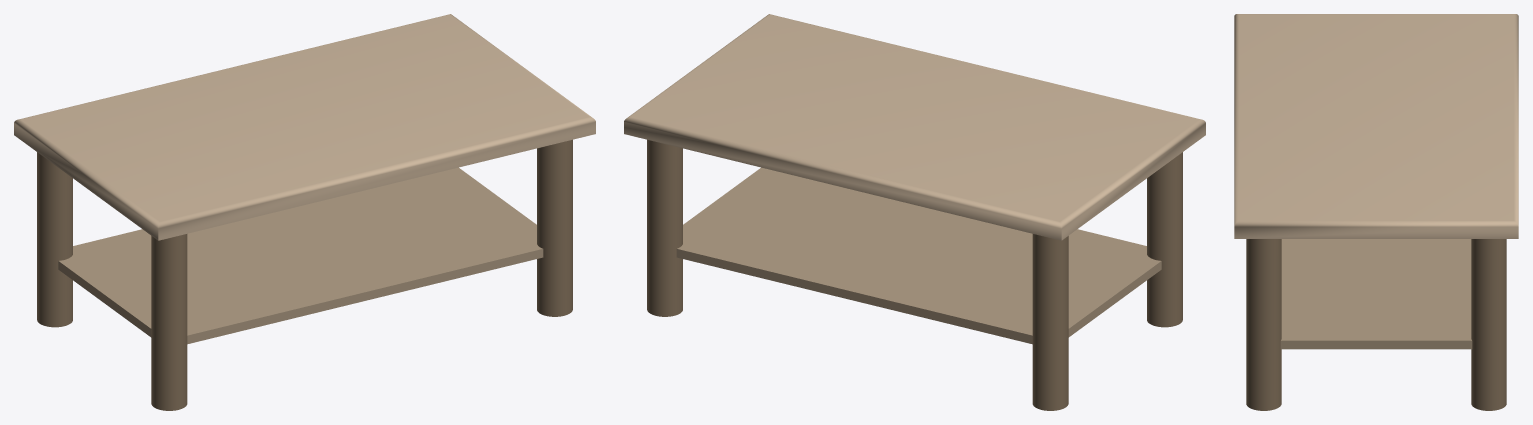
The model's file is coffee_table.glb.
3 views of the same model, side by side, from view 1: azimuth 30°, elevation 25°; view 2: azimuth 150°, elevation 25°; view 3: azimuth 270°, elevation 25° (orthographic).
Visible parts, largest first — view 1: top, shelf, leg0, leg1, leg2; view 2: top, shelf, leg2, leg3, leg0; view 3: top, shelf, leg1, leg3.
Part boxes in pixels (x1,y1,x2,y2): top: (14, 14, 595, 240); shelf: (58, 167, 543, 344); leg0: (151, 234, 187, 410); leg1: (537, 139, 572, 316); leg2: (37, 152, 72, 327); top: (624, 14, 1205, 240); shelf: (676, 167, 1161, 344); leg2: (1032, 234, 1068, 410); leg3: (647, 139, 682, 316); leg0: (1147, 152, 1182, 327); top: (1234, 14, 1518, 238); shelf: (1280, 239, 1472, 349); leg1: (1246, 239, 1281, 410); leg3: (1471, 239, 1506, 410).
Size of the model in its own units: 1.07 by 0.4572 by 0.6096.
